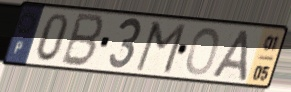0: (35, 12, 68, 63)
3: (107, 15, 144, 73)
A: (209, 28, 251, 83)
B: (58, 10, 107, 69)
M: (132, 20, 188, 76)
O: (185, 26, 222, 78)
